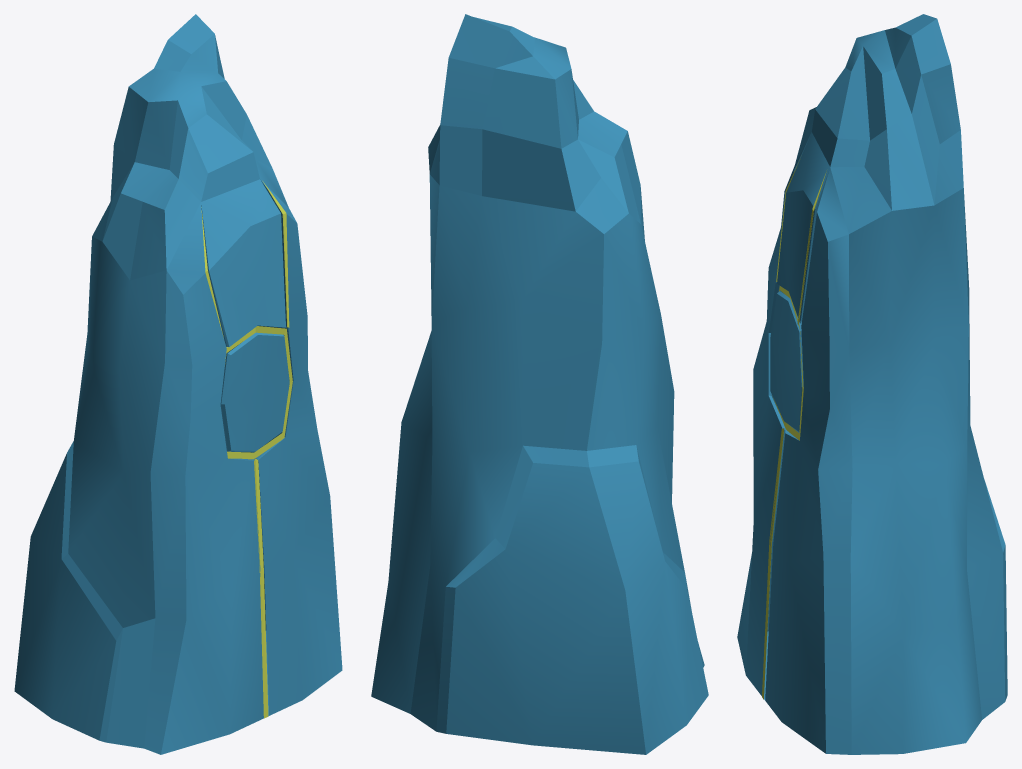
File: base point.FBX
3 views of the same model, side by side, from view 1: azimuth 30°, elevation 25°; view 2: azimuth 150°, elevation 25°; view 3: azimuth 270°, elevation 25° (orthographic). The views are drawn at different scales.
Visible parts, largest first — view 1: Base point, pattern; view 2: Base point; view 3: Base point, pattern.
Boxes of the visible parts, bbox=[...] form: Base point: bbox=[14, 14, 342, 754]; pattern: bbox=[201, 181, 292, 718]; Base point: bbox=[371, 14, 708, 754]; Base point: bbox=[737, 14, 1007, 754]; pattern: bbox=[762, 159, 826, 699].
Bounding box in the file's own units: 1.59 × 3.59 × 1.28.
